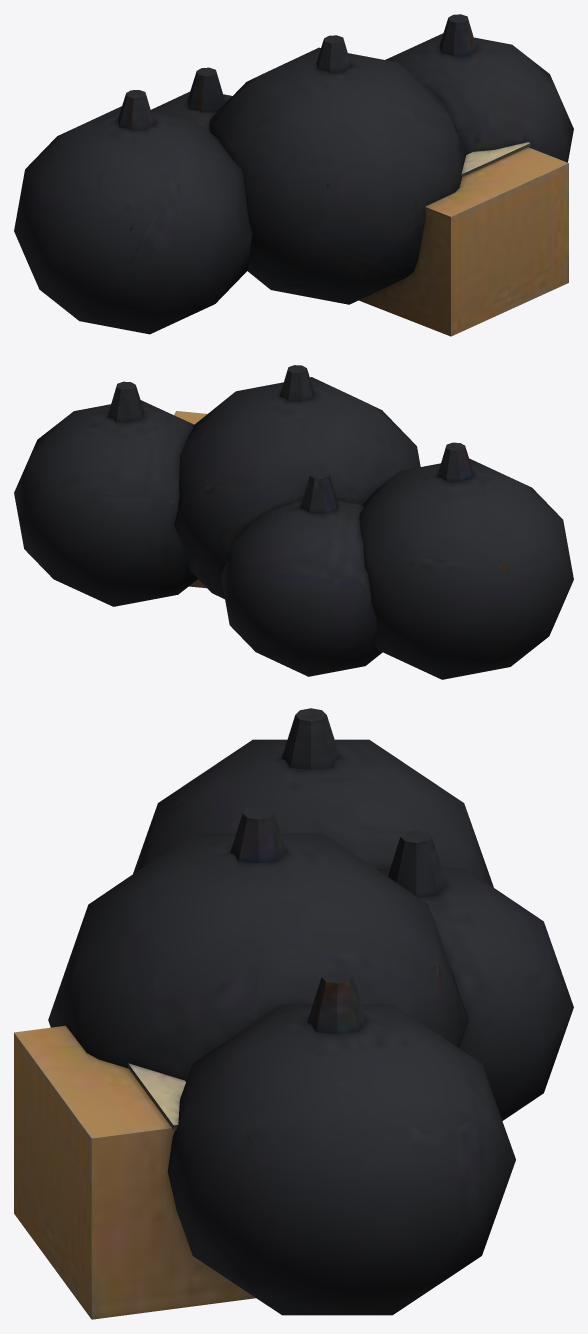
Rendered from basura.glb.
3 renders of one model, top to bottom at view 1: azimuth 30°, elevation 25°; view 2: azimuth 150°, elevation 25°; view 3: azimuth 270°, elevation 25°, orthographic. The views are drawn at different scales.
Visible parts, largest first — view 1: basura; view 2: basura; view 3: basura.
Part boxes in pixels (left/top/right/bottom): basura: left=14, top=14, right=573, bottom=336; basura: left=14, top=365, right=573, bottom=679; basura: left=14, top=708, right=573, bottom=1319.
Bounding box in the file's own units: 1.77 × 0.8015 × 1.06.
1 material, 1 textured.
